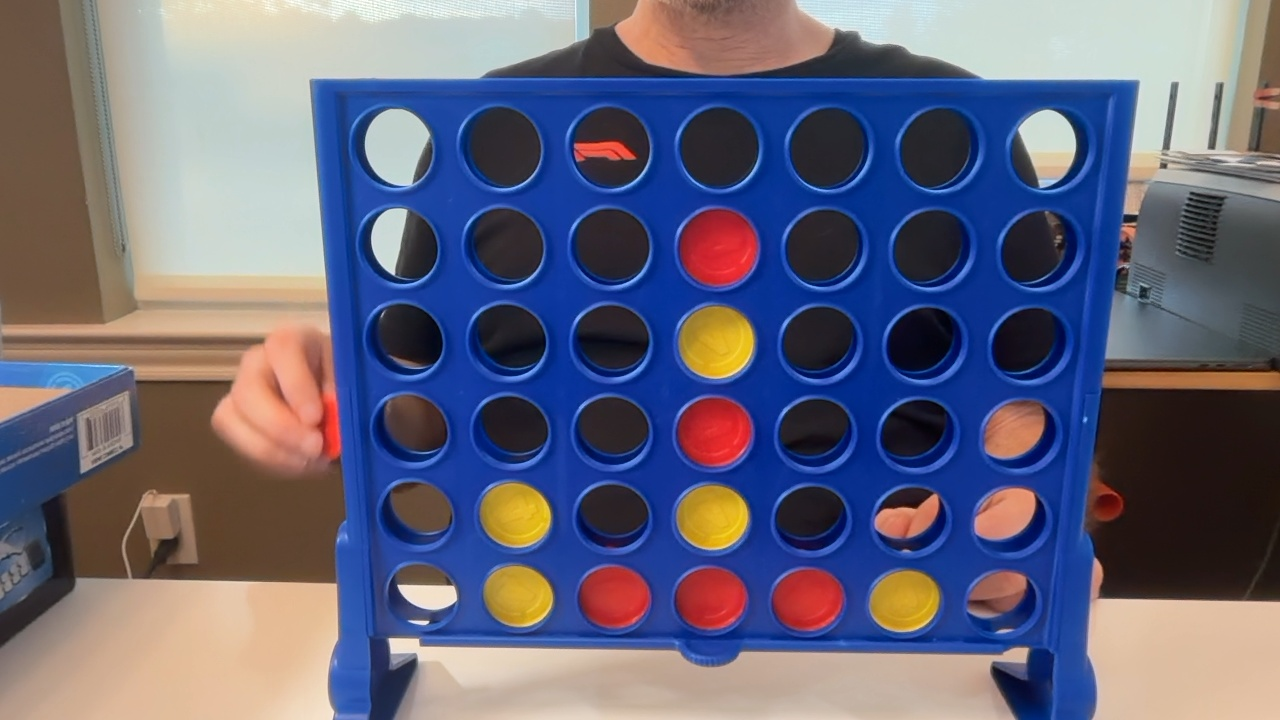red piece: (679, 209, 758, 287), (677, 397, 752, 467), (772, 568, 845, 632), (675, 567, 747, 631), (579, 566, 651, 629)
yellow piece: (678, 305, 755, 379), (677, 485, 747, 551), (479, 482, 550, 547), (869, 570, 940, 632), (483, 565, 553, 627)
